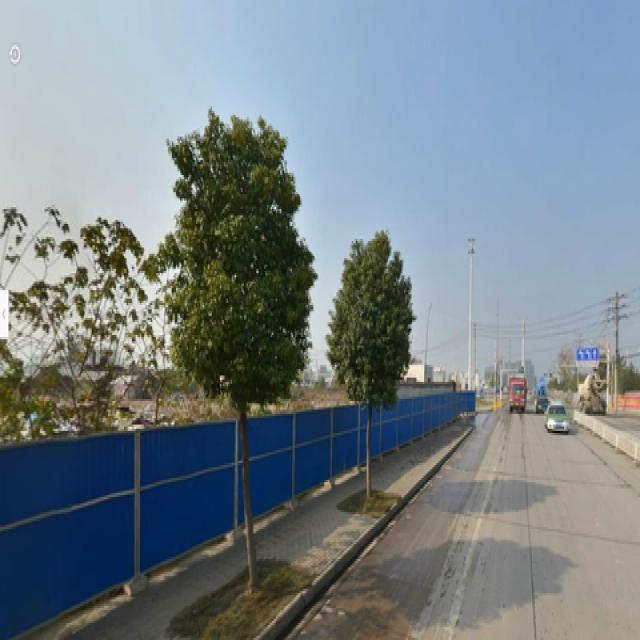cinn: (164, 109, 315, 576)
